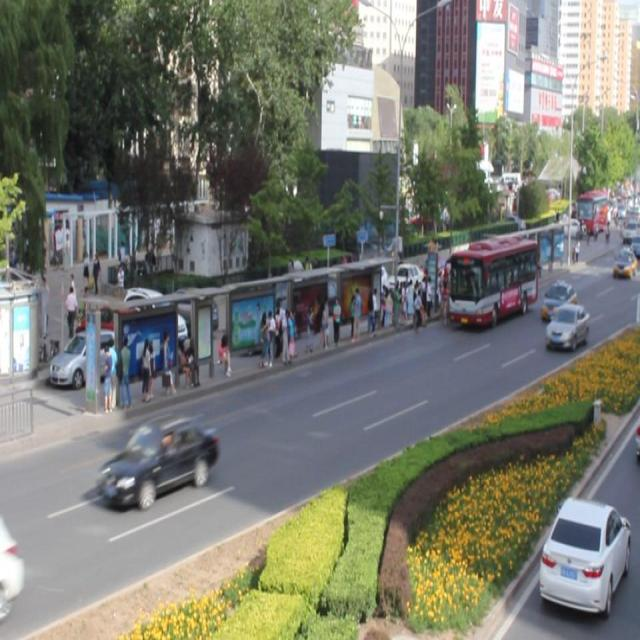car: (100, 414, 220, 508), (545, 302, 587, 349), (540, 280, 576, 321)
van: (447, 232, 538, 326)
